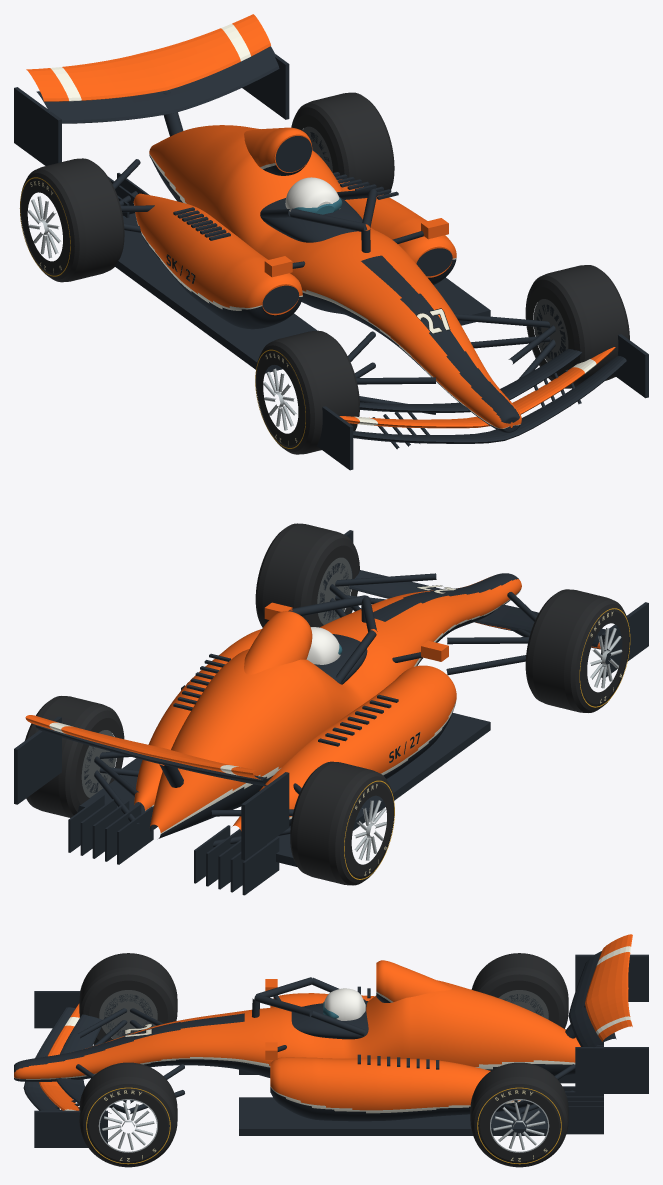
3 views of the same model, one above another, from view 1: azimuth 30°, elevation 25°; view 2: azimuth 150°, elevation 25°; view 3: azimuth 270°, elevation 25° (orthographic). The views are drawn at different scales.
Parts seen in each view (by area): view 1: Chassis, RearL, FrontL, FrontR, RearR; view 2: Chassis, FrontL, RearL, FrontR, RearR; view 3: Chassis, RearR, FrontR, FrontL, RearL.
Boxes of the visible parts, bbox=[...] form: Chassis: bbox=[14, 14, 648, 470]; RearL: bbox=[19, 158, 124, 282]; FrontL: bbox=[255, 330, 359, 454]; FrontR: bbox=[525, 265, 629, 388]; RearR: bbox=[291, 92, 394, 194]; Chassis: bbox=[14, 530, 648, 895]; FrontL: bbox=[525, 589, 630, 712]; RearL: bbox=[290, 761, 394, 885]; FrontR: bbox=[255, 523, 359, 627]; RearR: bbox=[25, 696, 124, 817]; Chassis: bbox=[14, 934, 648, 1147]; RearR: bbox=[470, 1062, 568, 1167]; FrontR: bbox=[79, 1062, 177, 1167]; FrontL: bbox=[79, 953, 177, 1044]; RearL: bbox=[471, 953, 568, 1028].
Bounding box in the file's own units: 2.34 × 1.16 × 4.66.
Materials: 31 (6 with a texture image).
